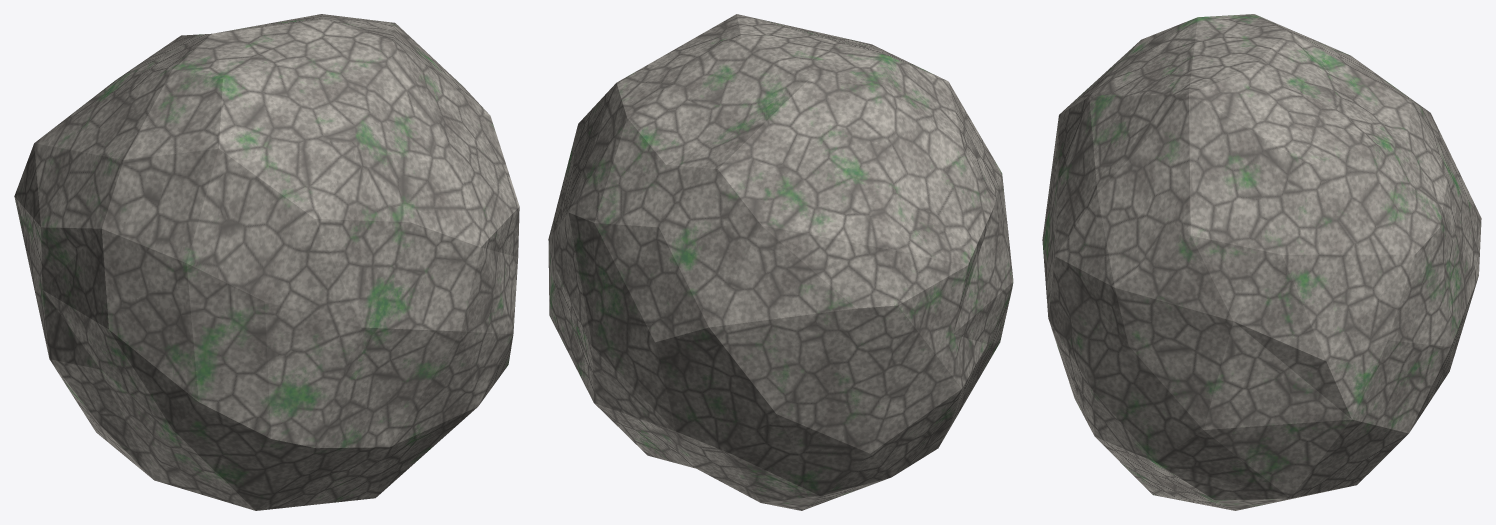
Rendered from boulder_dash.glb.
The picture shows the model from 3 angles, left to right: view 1: azimuth 30°, elevation 25°; view 2: azimuth 150°, elevation 25°; view 3: azimuth 270°, elevation 25°; orthographic projection. The views are drawn at different scales.
Visible parts, largest first — view 1: Boulder; view 2: Boulder; view 3: Boulder.
Part boxes in pixels (<box>): Boulder: <box>14,14,519,510</box>; Boulder: <box>548,14,1013,510</box>; Boulder: <box>1042,14,1481,510</box>.
Size of the model in its own units: 3.69 by 3.65 by 3.37.
1 material, 1 textured.
